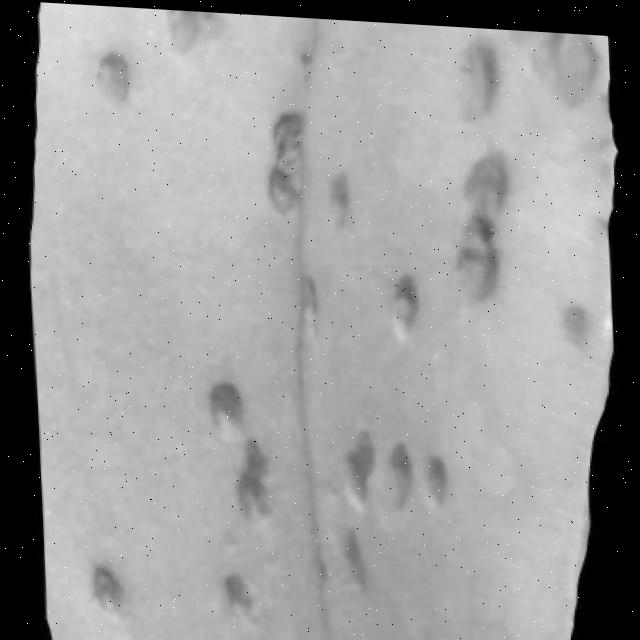mite: (68, 361, 471, 640), (200, 372, 457, 516), (334, 419, 453, 507)
spots: (20, 1, 634, 640)
